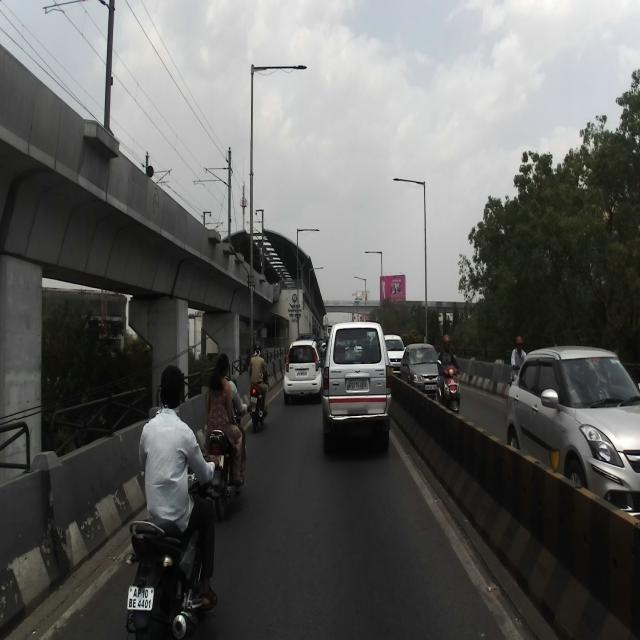car: (502, 334, 640, 529), (322, 322, 392, 456), (283, 338, 321, 404)
motorcycle: (122, 450, 220, 640), (203, 400, 253, 518)
scooter: (435, 359, 462, 418)
